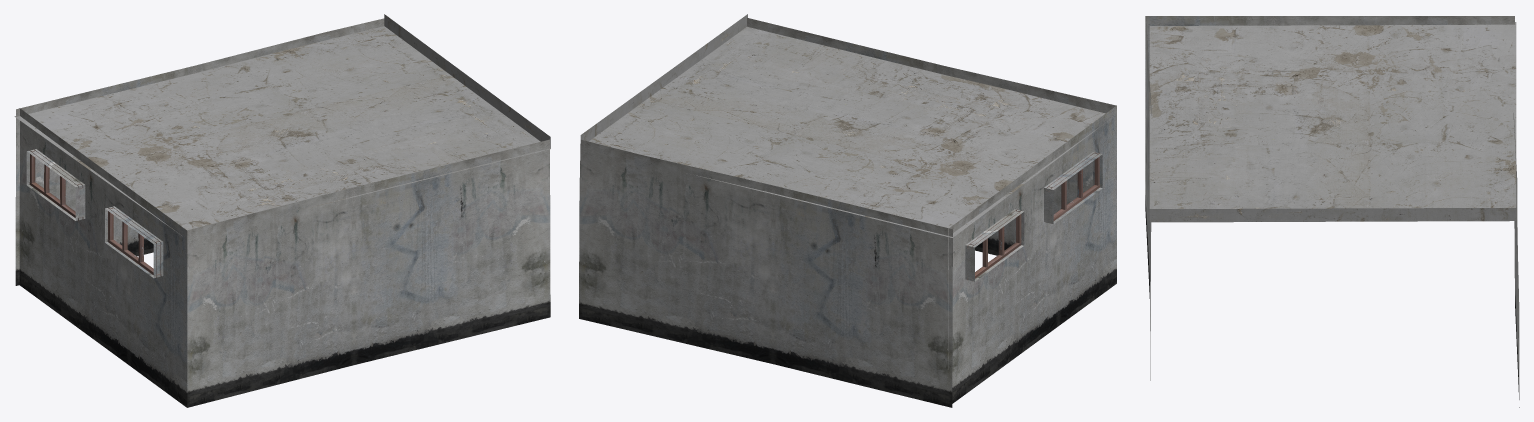
The model's file is sm_GarageInside_01_02.fbx.
3 renders of one model, left to right at view 1: azimuth 30°, elevation 25°; view 2: azimuth 150°, elevation 25°; view 3: azimuth 270°, elevation 25°, orthographic. The views are drawn at different scales.
Visible parts, largest first — view 1: sm_GarageInside_01_02_LOD0; view 2: sm_GarageInside_01_02_LOD0; view 3: sm_GarageInside_01_02_LOD0.
Part boxes in pixels (x1,y1,x2,y2): sm_GarageInside_01_02_LOD0: [14, 14, 550, 407]; sm_GarageInside_01_02_LOD0: [579, 14, 1116, 407]; sm_GarageInside_01_02_LOD0: [1145, 16, 1519, 407].
Size of the model in its own units: 507 by 647 by 299.
